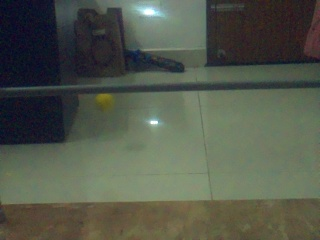ball: (95, 93, 114, 110)
